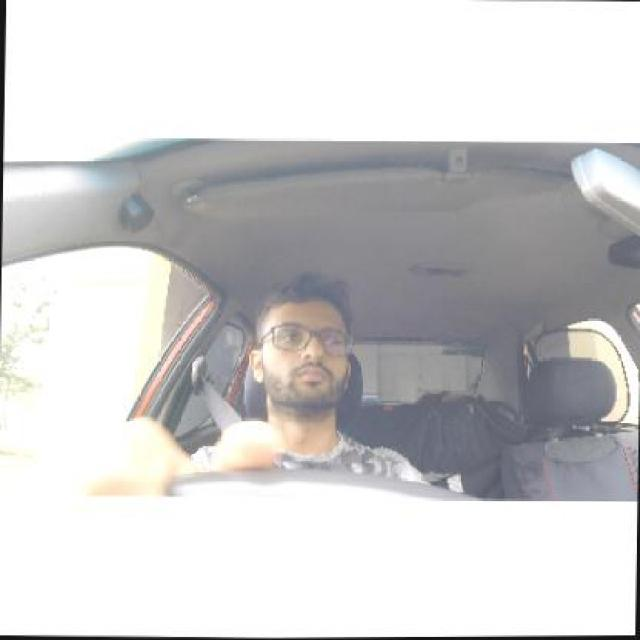person: (250, 290, 354, 410)
